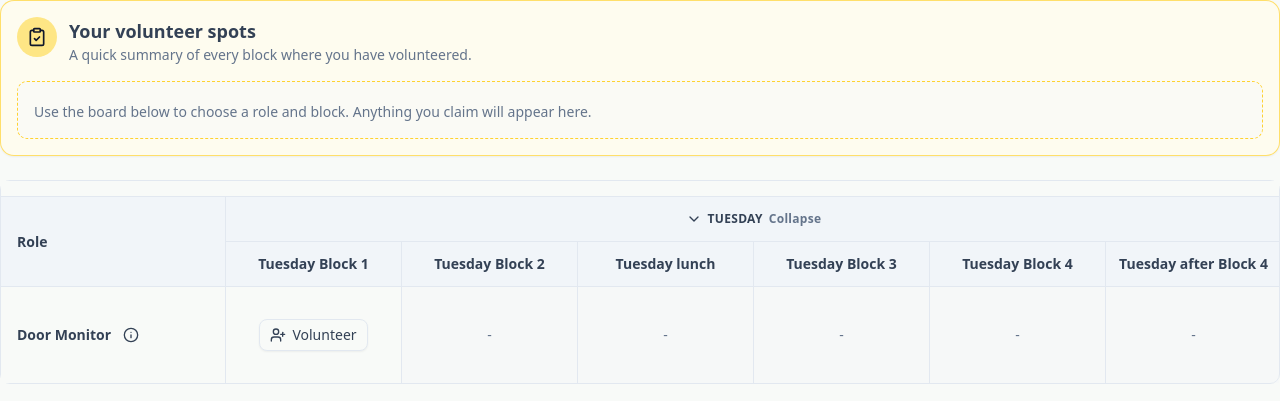
Test: VolunteerBoardClient day column groups › collapses a day without rendering noisy hidden placeholders down the table
Click the button with aria-label "collapse tuesday volunteer columns".
click(754, 219)  # box x1=676 y1=205 x2=831 y2=233
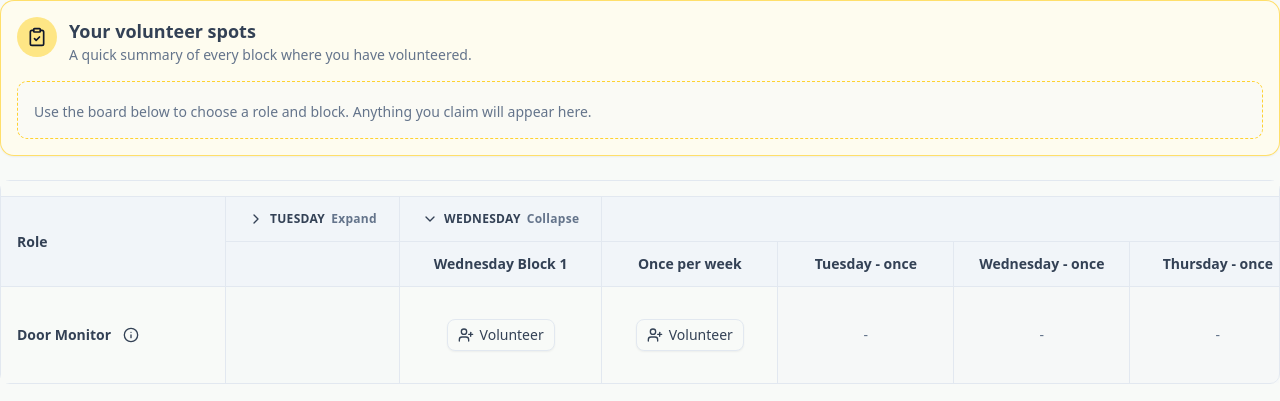
Check: the button with aria-label "expand tuesday volunteer columns" is shown, box x1=238 y1=205 x2=387 y2=233
Check: the column heading "Tuesday Block 1" is gone
Check: the column heading "Tuesday after Block 4" is gone
